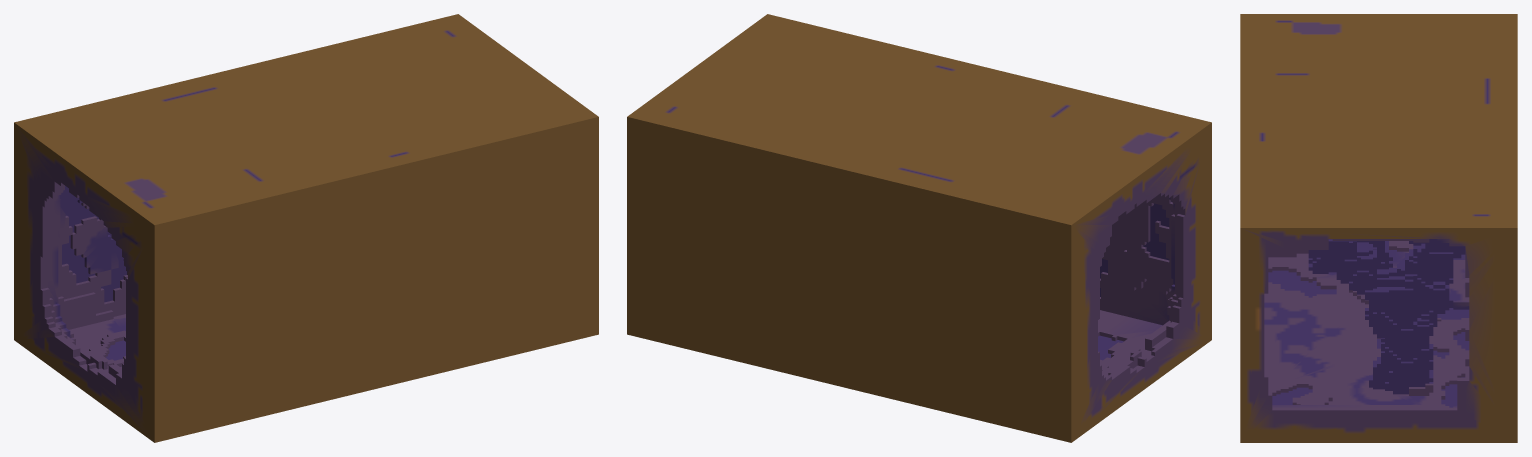
The model's file is Level3_pathway_v1.dae.
The picture shows the model from 3 angles, left to right: view 1: azimuth 30°, elevation 25°; view 2: azimuth 150°, elevation 25°; view 3: azimuth 270°, elevation 25°; orthographic projection.
Visible parts, largest first — view 1: level3_pathway_v1.level_3_pathway_v1; view 2: level3_pathway_v1.level_3_pathway_v1; view 3: level3_pathway_v1.level_3_pathway_v1.
Part boxes in pixels (left/top/right/bottom): level3_pathway_v1.level_3_pathway_v1: left=14, top=14, right=598, bottom=442; level3_pathway_v1.level_3_pathway_v1: left=627, top=14, right=1211, bottom=442; level3_pathway_v1.level_3_pathway_v1: left=1240, top=14, right=1517, bottom=442.
Size of the model in its own units: 12.6 by 5.9 by 6.9.
Materials: 1 (1 with a texture image).
